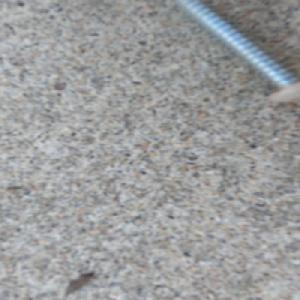Screw: (177, 0, 300, 105)
